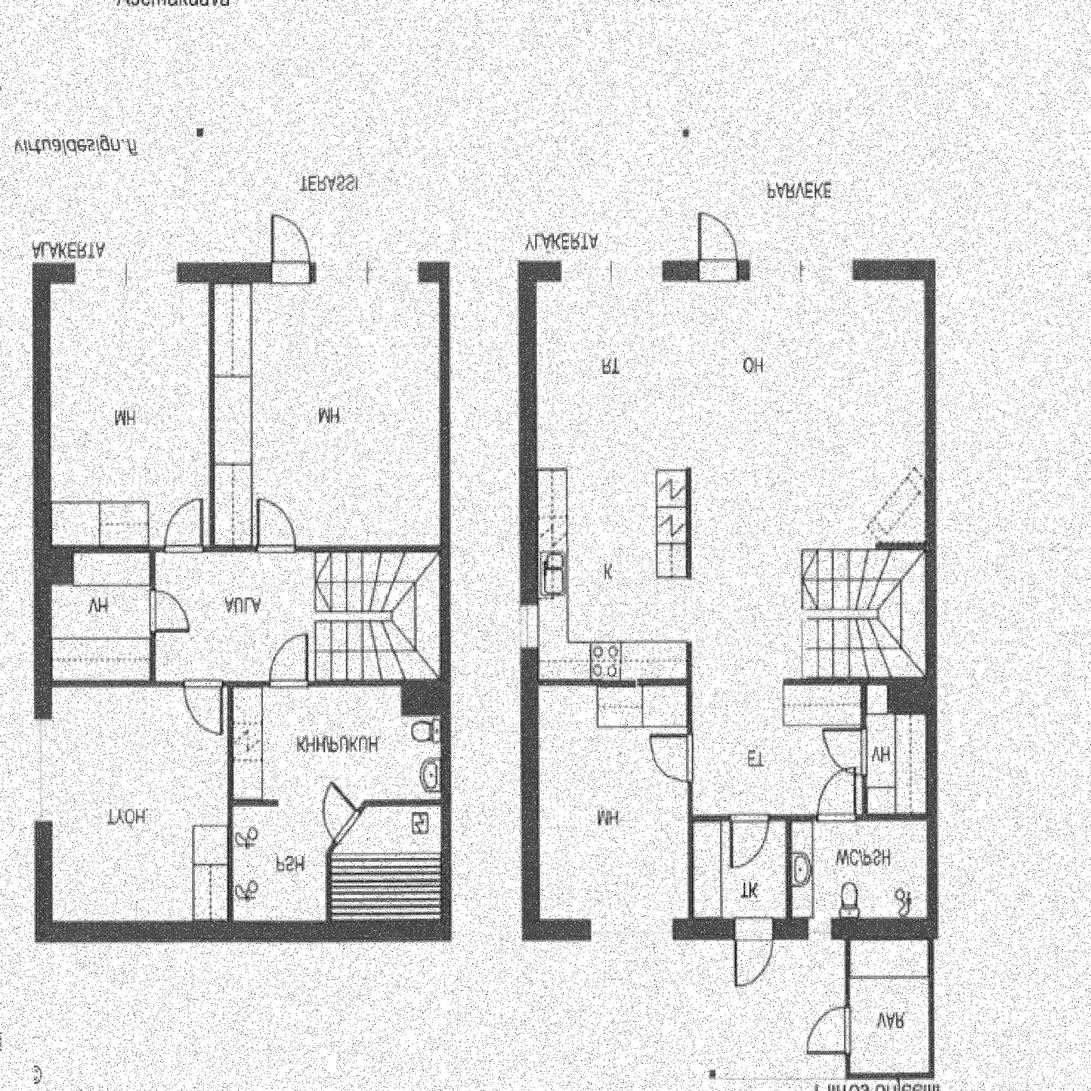wall: (521, 261, 537, 942), (34, 262, 50, 942), (521, 261, 936, 282), (34, 262, 451, 282), (34, 922, 451, 942), (521, 922, 936, 942), (926, 261, 936, 942), (441, 262, 451, 942), (34, 681, 451, 689), (34, 546, 451, 553), (687, 470, 693, 942), (325, 801, 367, 855), (687, 814, 936, 822), (227, 681, 233, 942), (209, 262, 214, 553), (521, 678, 693, 686), (887, 686, 926, 714), (402, 689, 441, 716), (844, 921, 850, 1080), (861, 679, 867, 822), (928, 942, 934, 1080), (785, 814, 791, 942), (50, 553, 72, 587), (150, 546, 155, 689), (844, 1073, 934, 1080), (783, 679, 867, 686), (363, 801, 450, 807), (867, 679, 936, 686), (326, 852, 331, 942), (227, 801, 277, 808), (875, 543, 926, 549)
